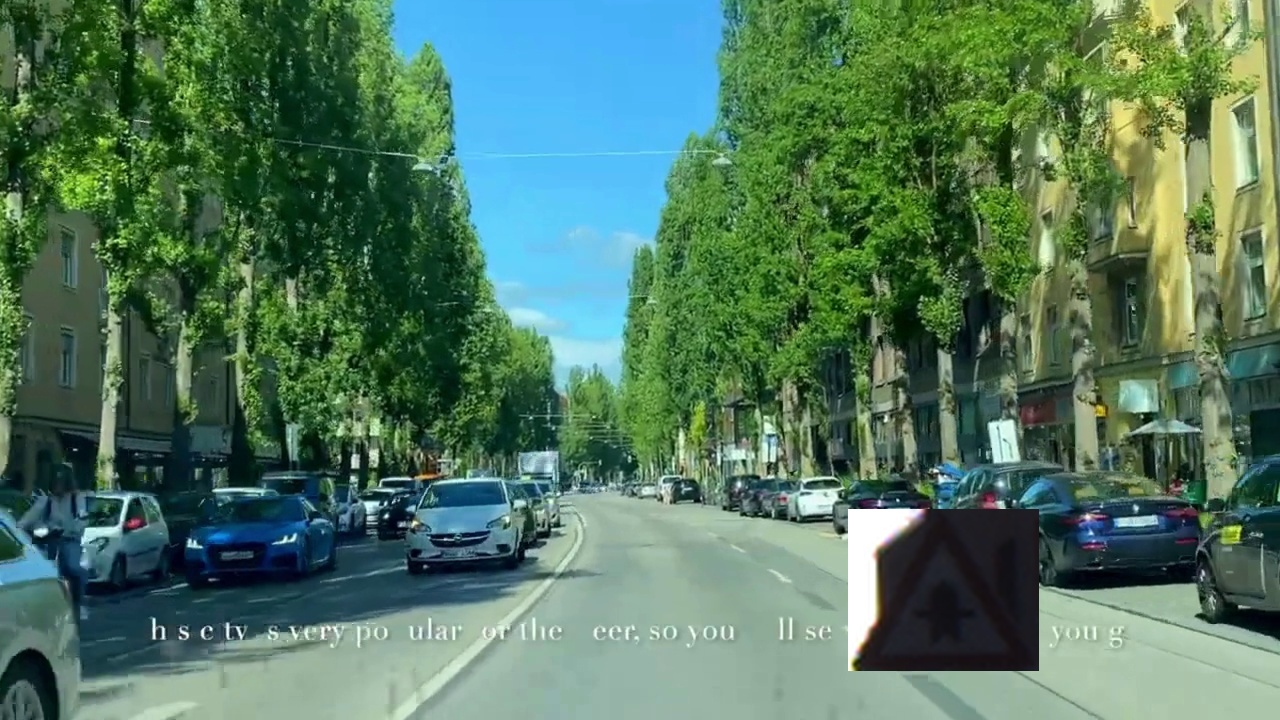Right-of-way: (848, 509, 1039, 671)
